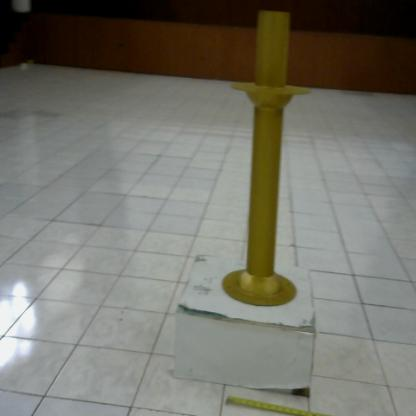pole: (220, 4, 312, 315)
